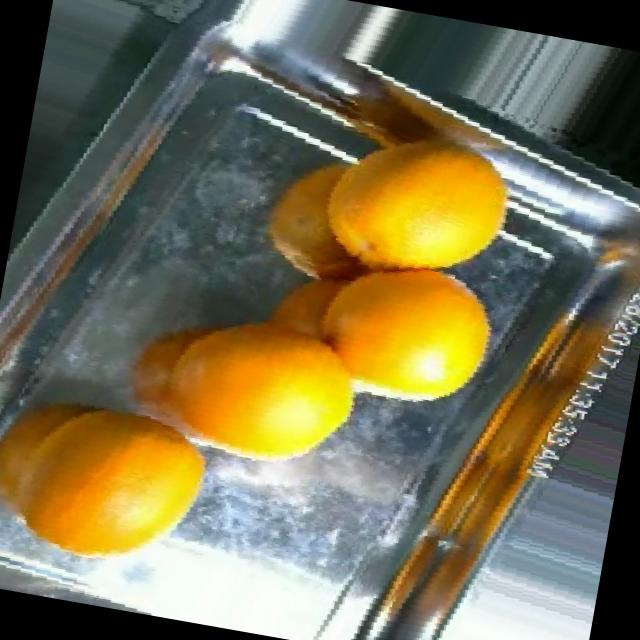Fruit: (296, 232, 521, 438)
